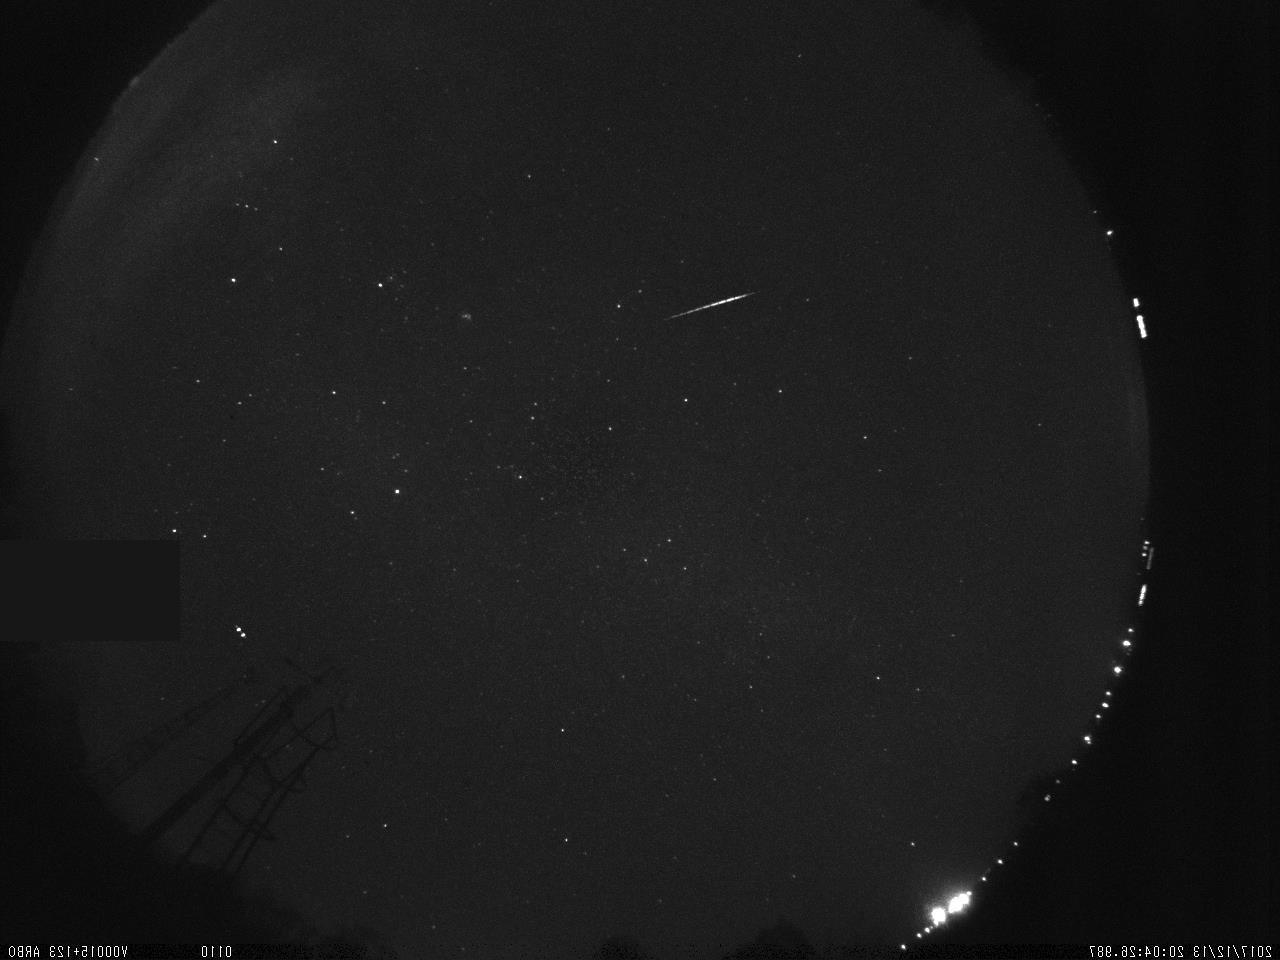meteor: (652, 282, 769, 328)
